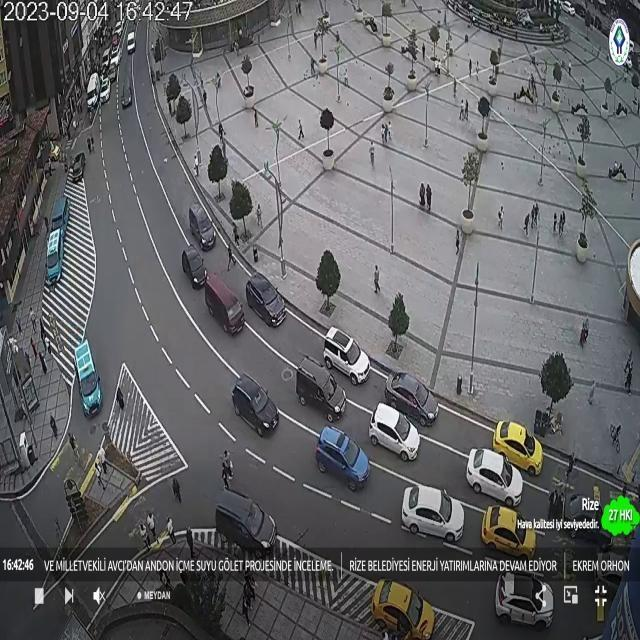Car: (214, 488, 278, 556), (400, 484, 464, 544), (372, 578, 434, 639), (222, 379, 285, 439), (315, 426, 370, 490), (294, 357, 348, 422), (495, 571, 553, 630), (466, 448, 523, 505), (369, 402, 422, 460), (386, 372, 441, 427), (481, 505, 536, 560), (493, 420, 543, 476), (324, 326, 371, 385), (204, 275, 245, 336), (246, 273, 287, 327), (189, 205, 216, 251), (182, 245, 207, 288), (66, 152, 86, 182)
Van: (75, 339, 103, 417), (40, 226, 70, 288)
